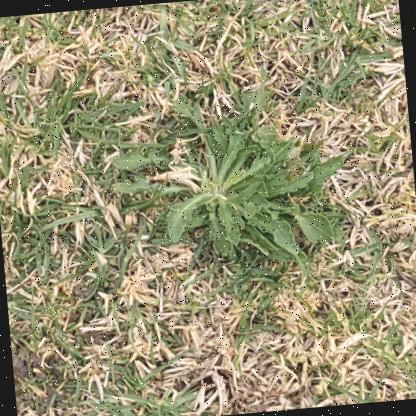Weeds: (107, 79, 350, 271)
